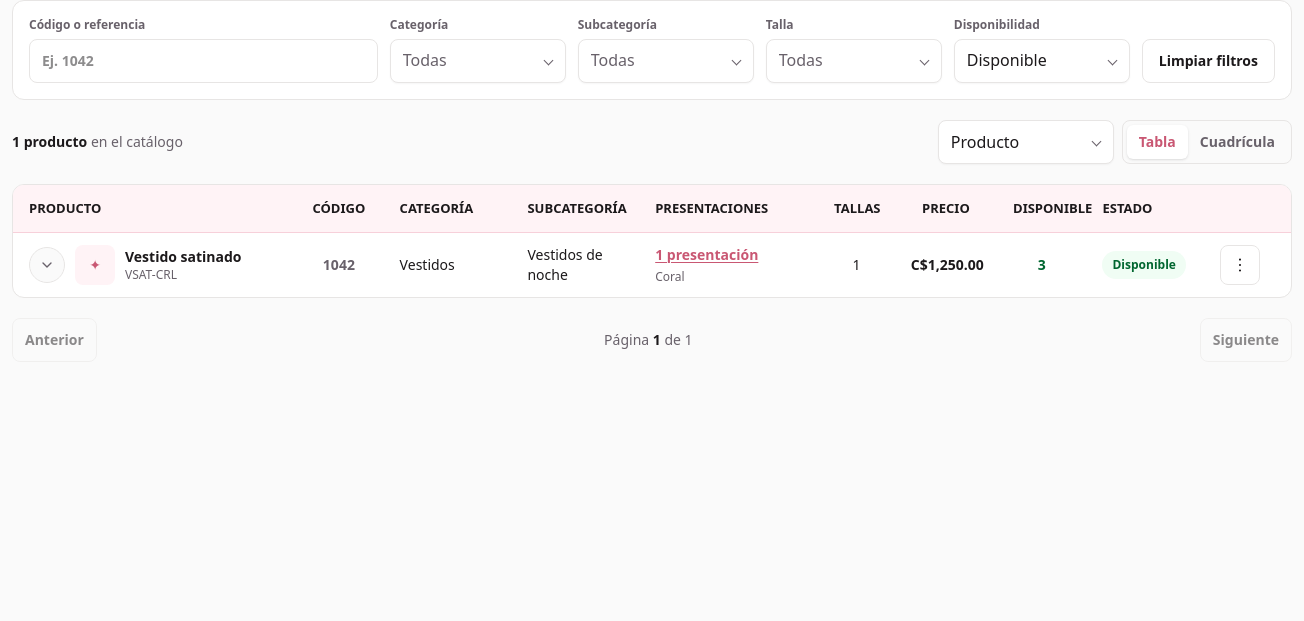
ProductsPage › switches between table and grid while keeping expanded details inline
Expected: the text "Vestido satinado" is shown, [125,247,242,266]
Click the button named "Ver detalles de Vestido satinado": x=47, y=265 [29,247,65,283]
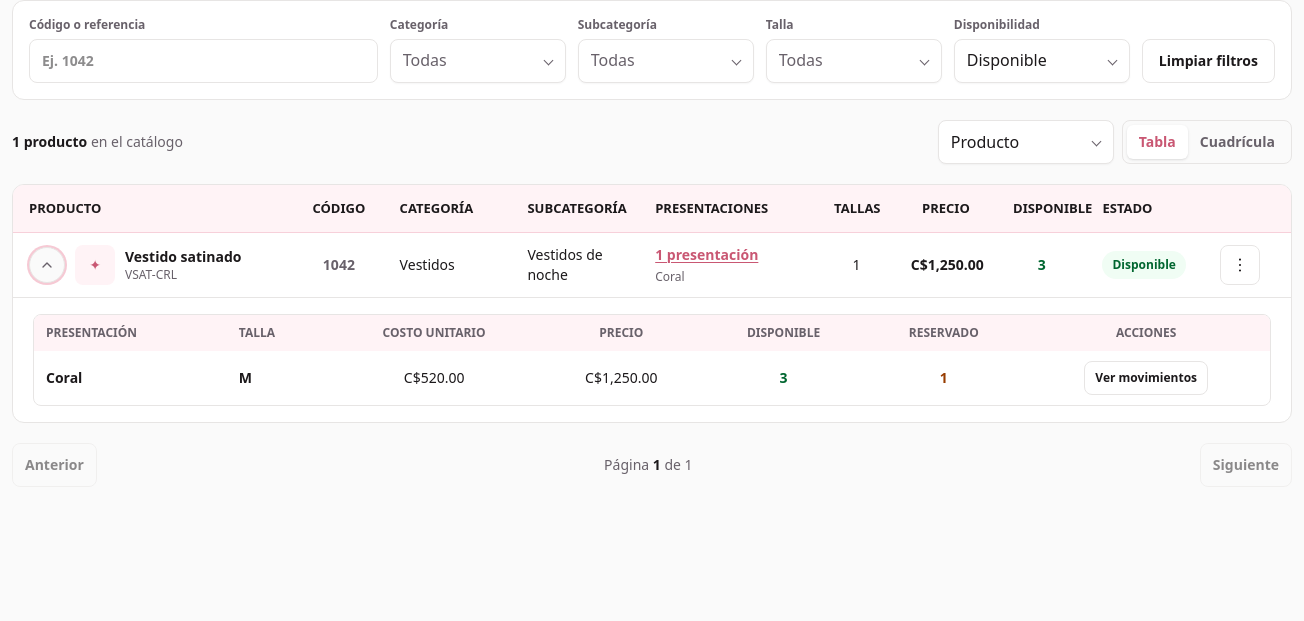
Click the button "Cuadrícula": x=1237, y=142 [1188,125,1287,159]
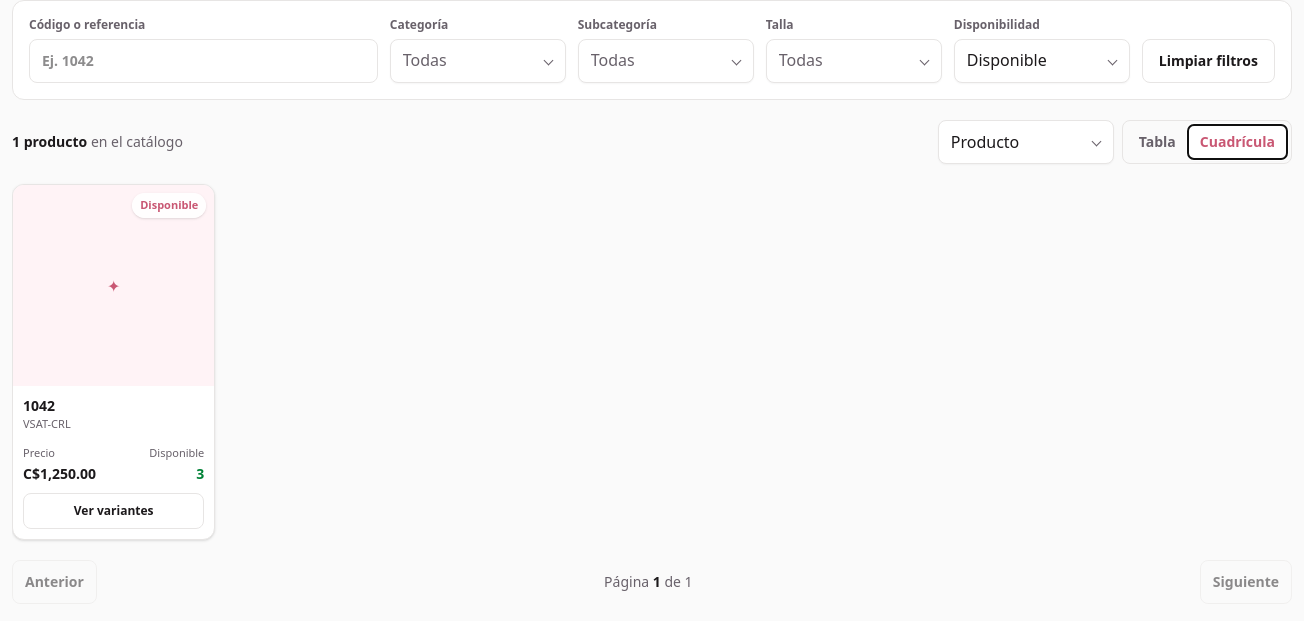
Now the element named "Catálogo en cuadrícula" is shown, box [12,184,215,540]
